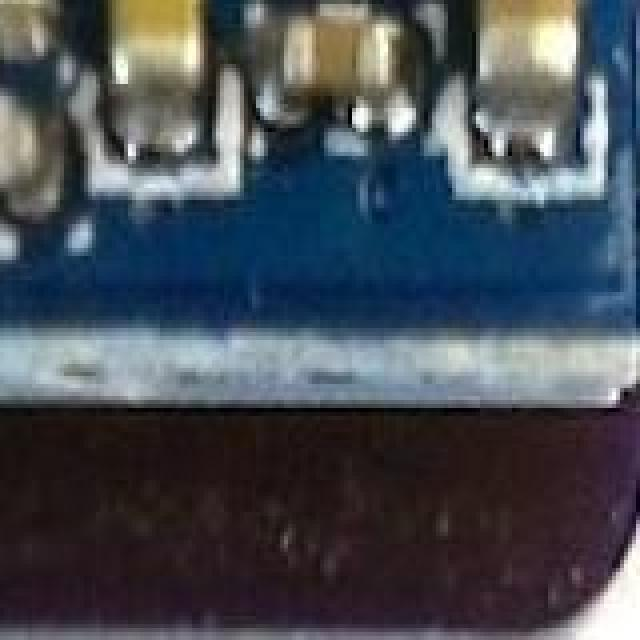LED: (0, 120, 32, 188)
capacitor: (464, 0, 592, 176), (116, 0, 212, 108), (288, 20, 386, 92)
resistor: (0, 0, 52, 16)
